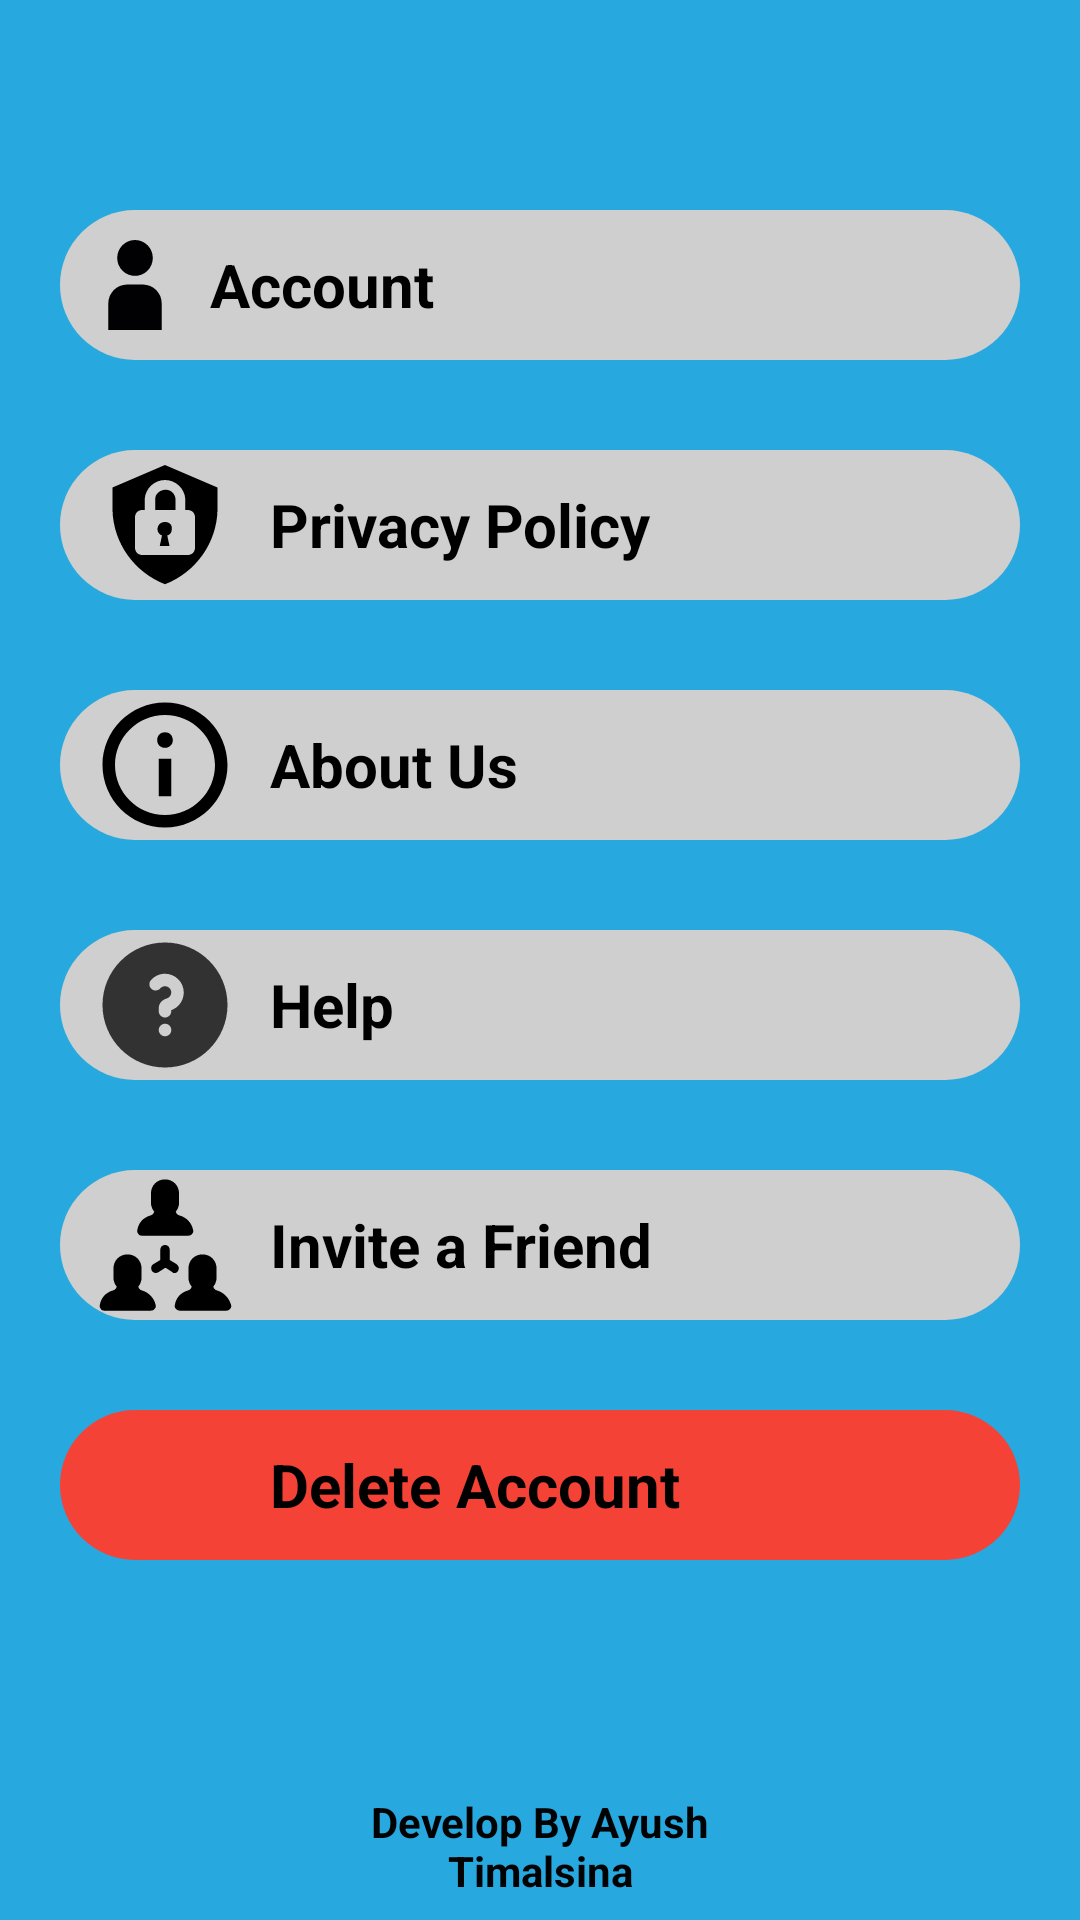

Point at icon controls on the screen. Image size 1080px x 1920px, points as (x,y).
user: (135,285)
users network: (165,1245)
